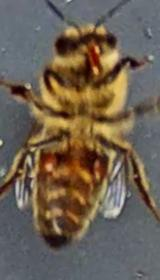varroa_mite: (33, 148, 66, 184), (84, 152, 112, 186)
